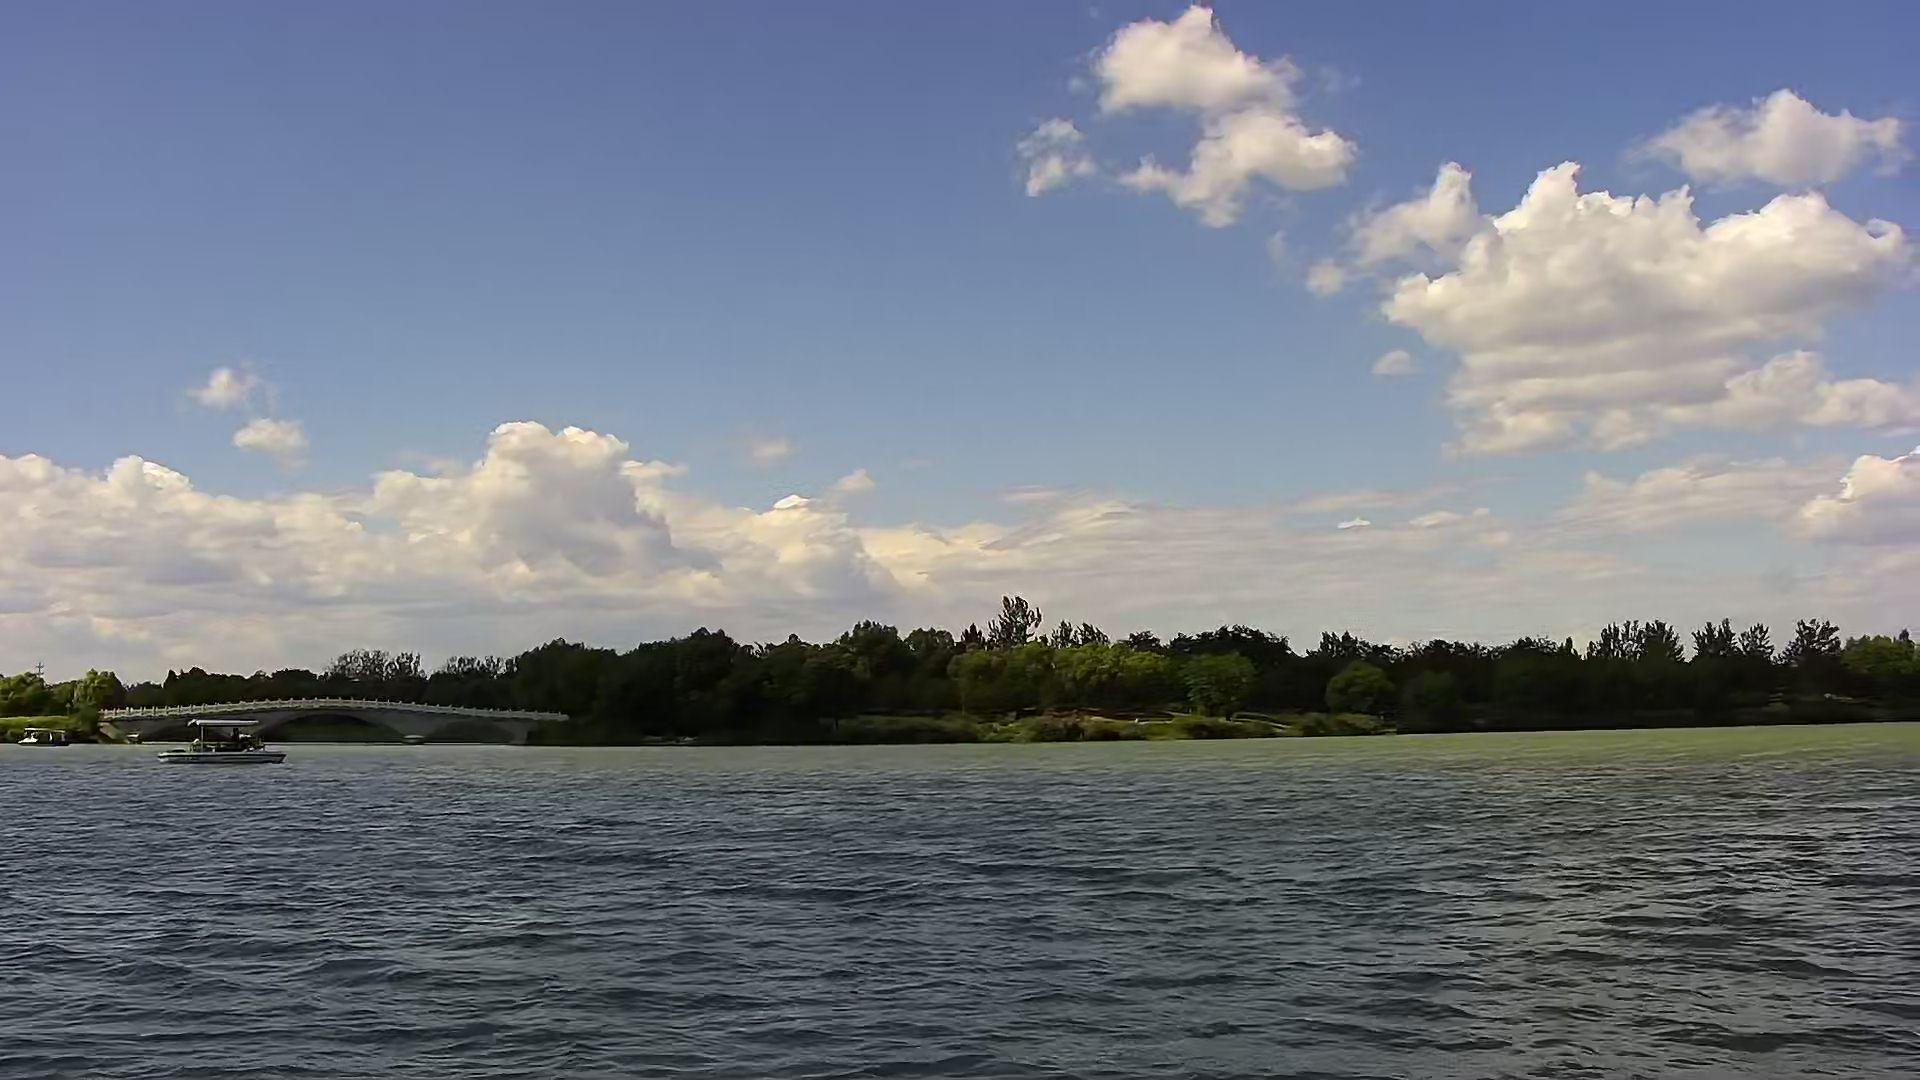boat: (156, 719, 291, 771), (8, 723, 75, 748)
bridge: (94, 699, 578, 748)
